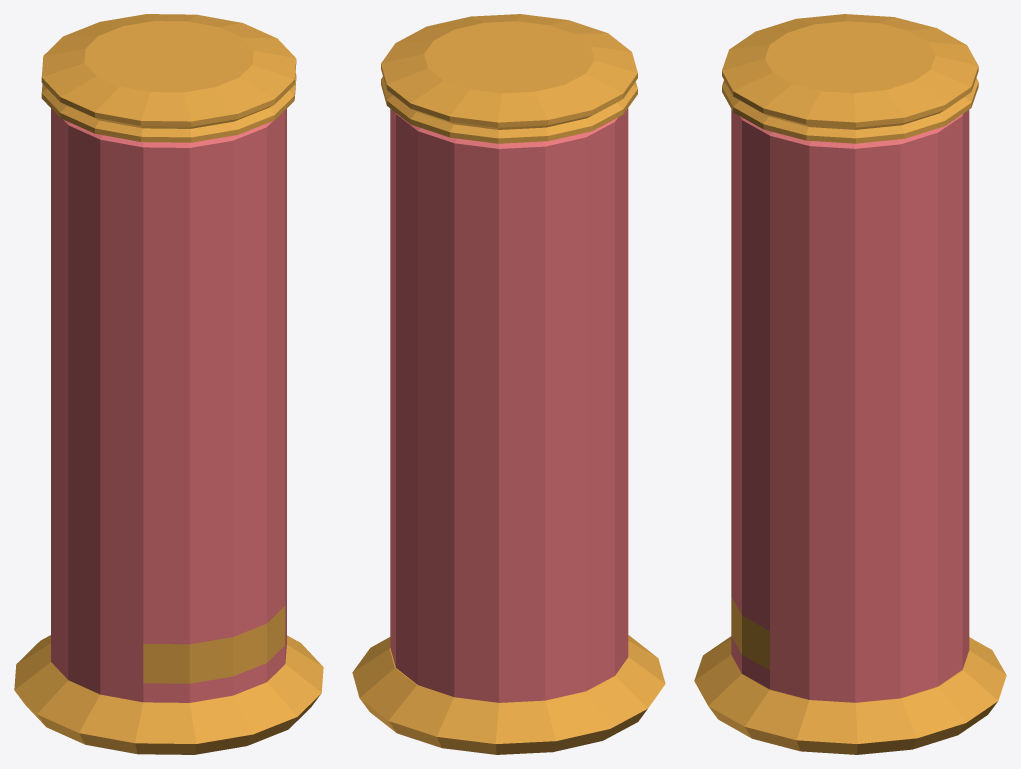
File: SM_Tank_Empty.fbx
3 views of the same model, side by side, from view 1: azimuth 30°, elevation 25°; view 2: azimuth 150°, elevation 25°; view 3: azimuth 270°, elevation 25° (orthographic).
Parts seen in each view (by area): view 1: tank-empty; view 2: tank-empty; view 3: tank-empty.
Boxes of the visible parts, box(x1,y1,x2,y2) form: tank-empty: box(14, 14, 323, 754); tank-empty: box(352, 14, 665, 754); tank-empty: box(694, 14, 1006, 754).
Size of the model in its own units: 2.19 by 4.92 by 2.19.
